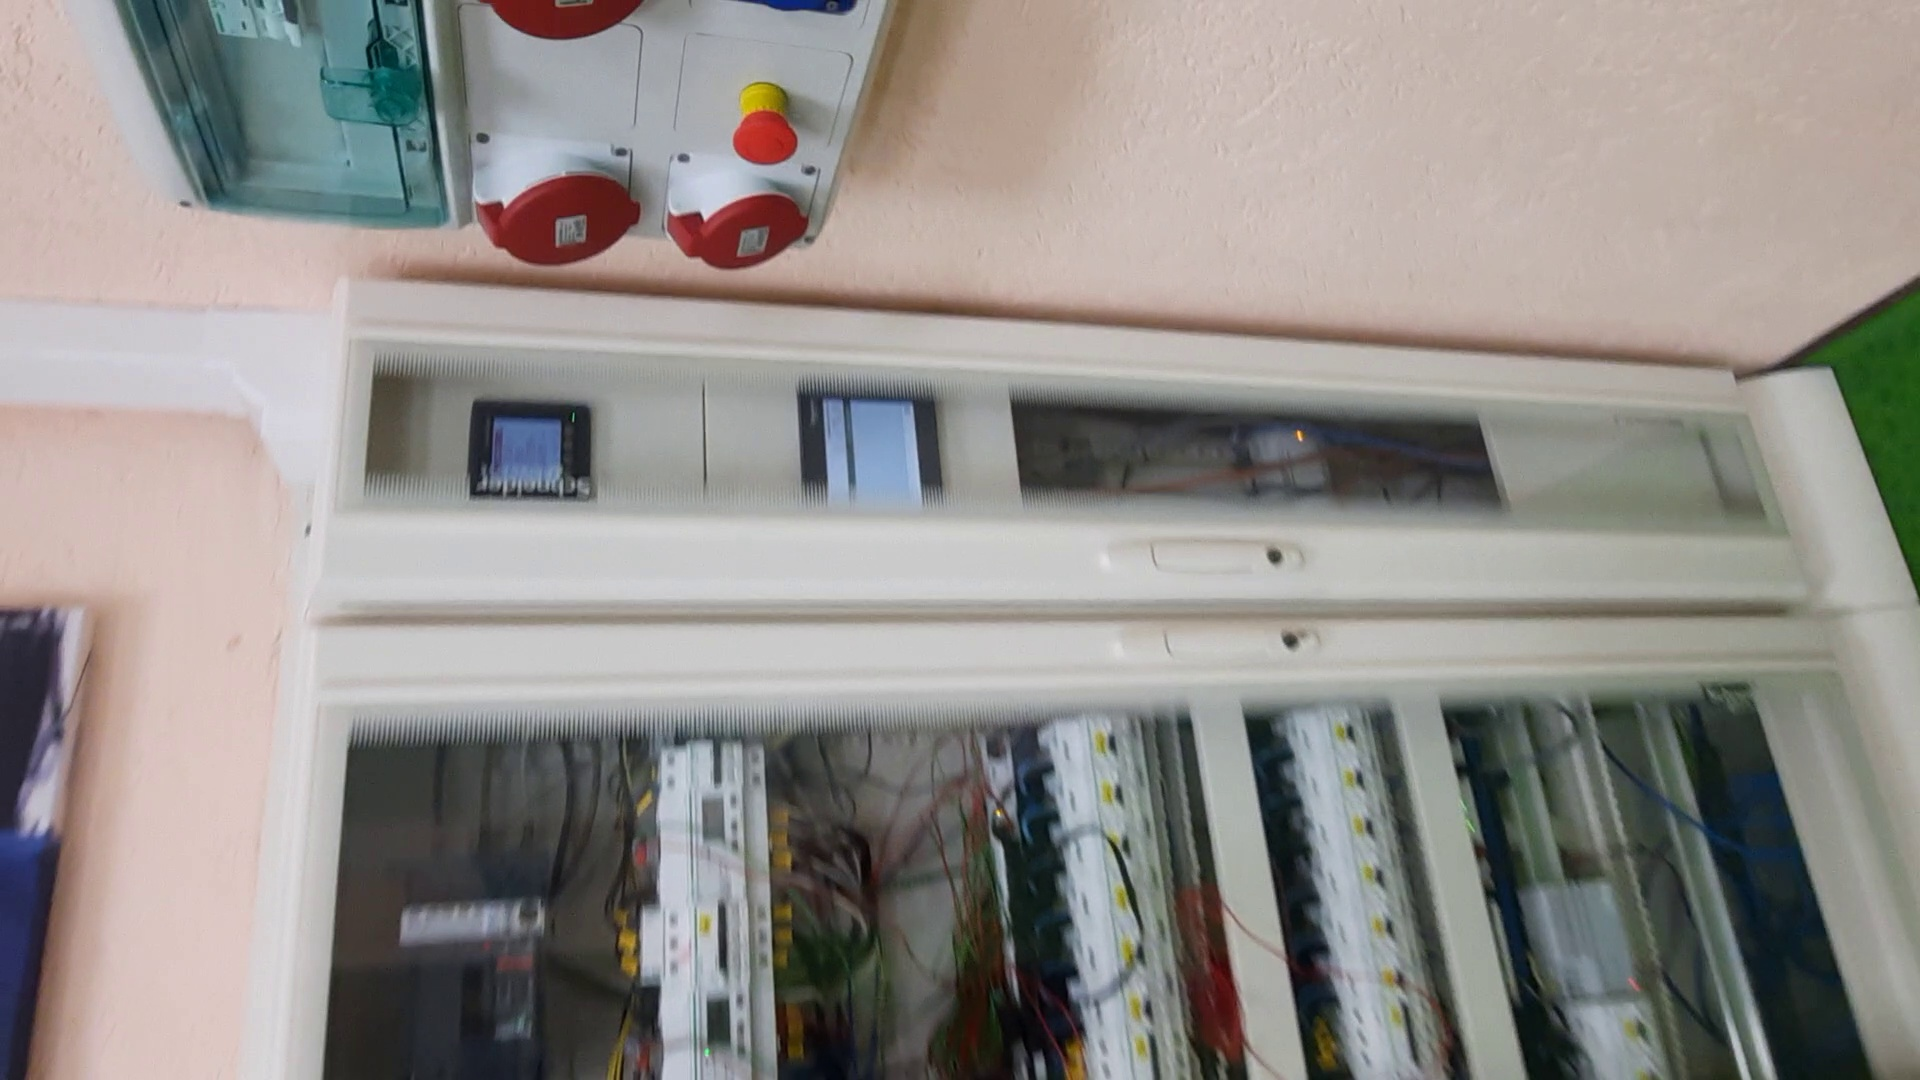stand1: (253, 278, 1916, 1076)
